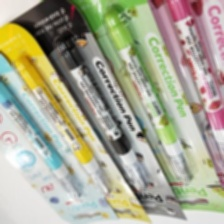book: (2, 0, 189, 223), (40, 0, 224, 216), (0, 20, 155, 223), (0, 38, 122, 223)
correction_fluid: (101, 5, 196, 186), (52, 31, 154, 193), (12, 52, 117, 198), (155, 0, 224, 178), (0, 70, 86, 201)
